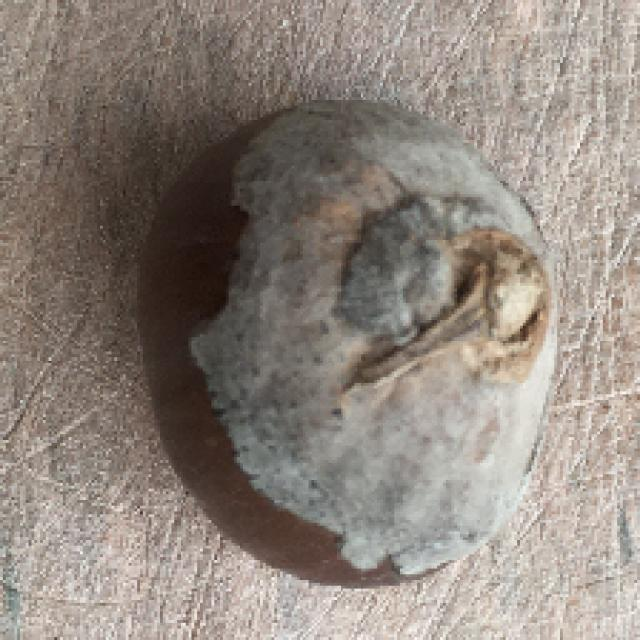damagedHazelnut: (132, 97, 560, 596)
